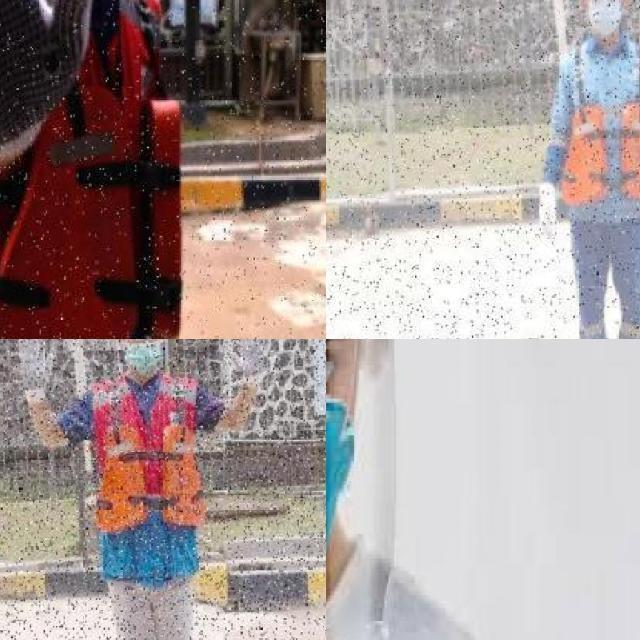apron: (0, 0, 102, 162), (16, 339, 53, 407), (226, 339, 268, 390), (534, 180, 560, 243)
